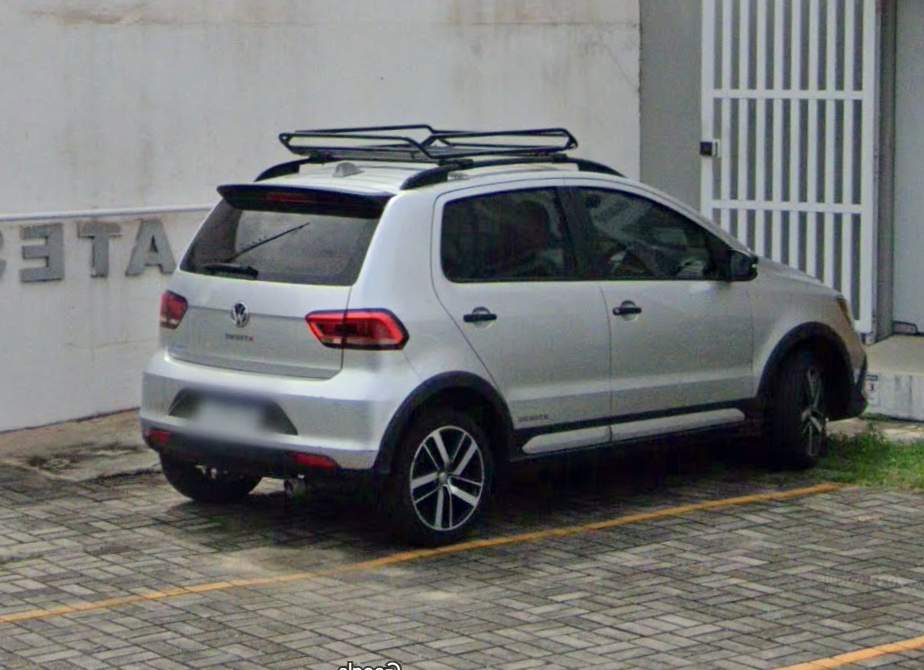car: (134, 119, 873, 551)
